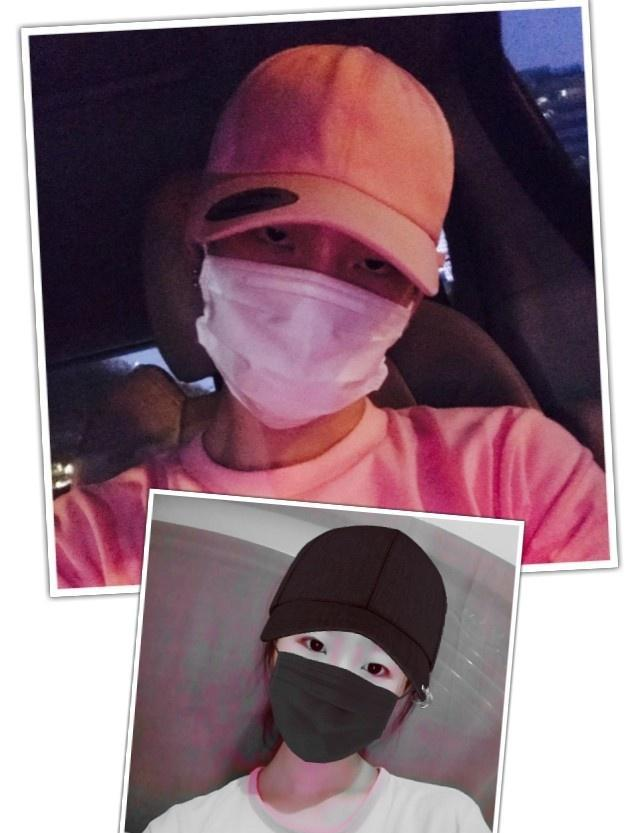OK: (200, 203, 407, 428), (269, 631, 414, 759)
